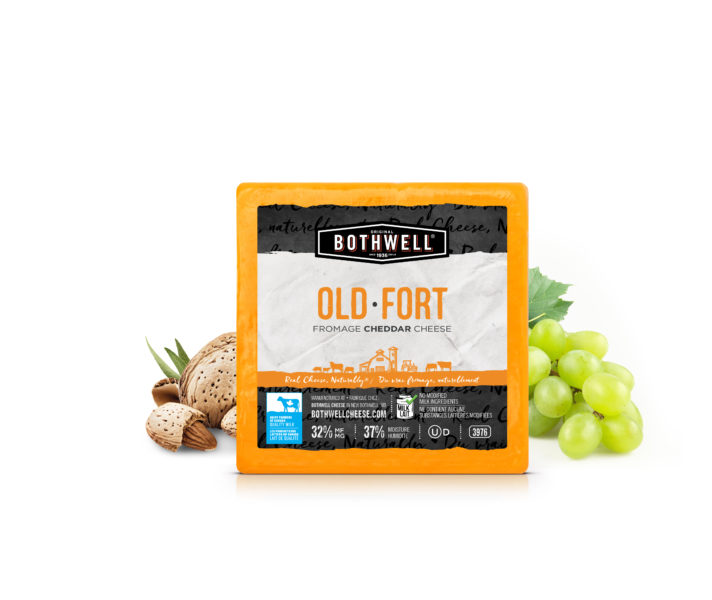cheese: (238, 191, 540, 484)
